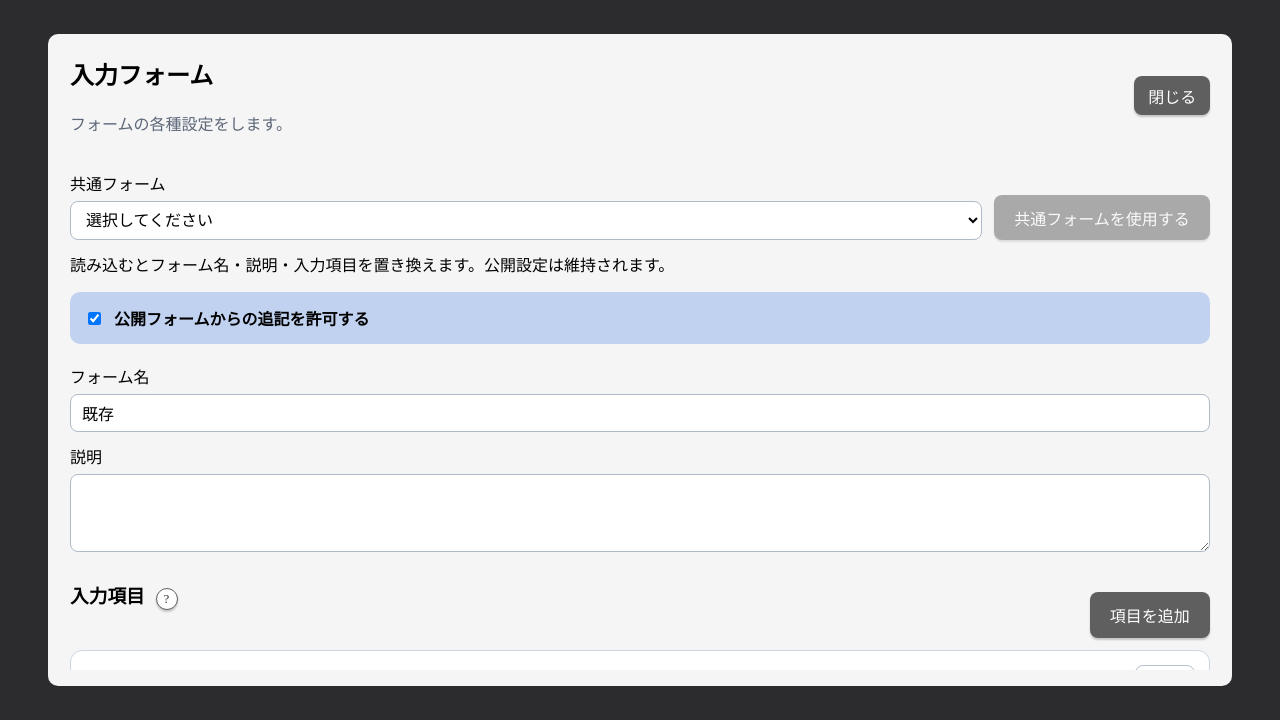
Scenario: 設定の検証・競合・公開URL操作 › 定義の取得失敗を通知して閉じ、適用失敗では元の定義を維持する
The width and height of the screenshot is (1280, 720).
Select "共通（第3版）" in the dropdown labelled "共通フォーム": x=526, y=221 x1=70 y1=201 x2=982 y2=240
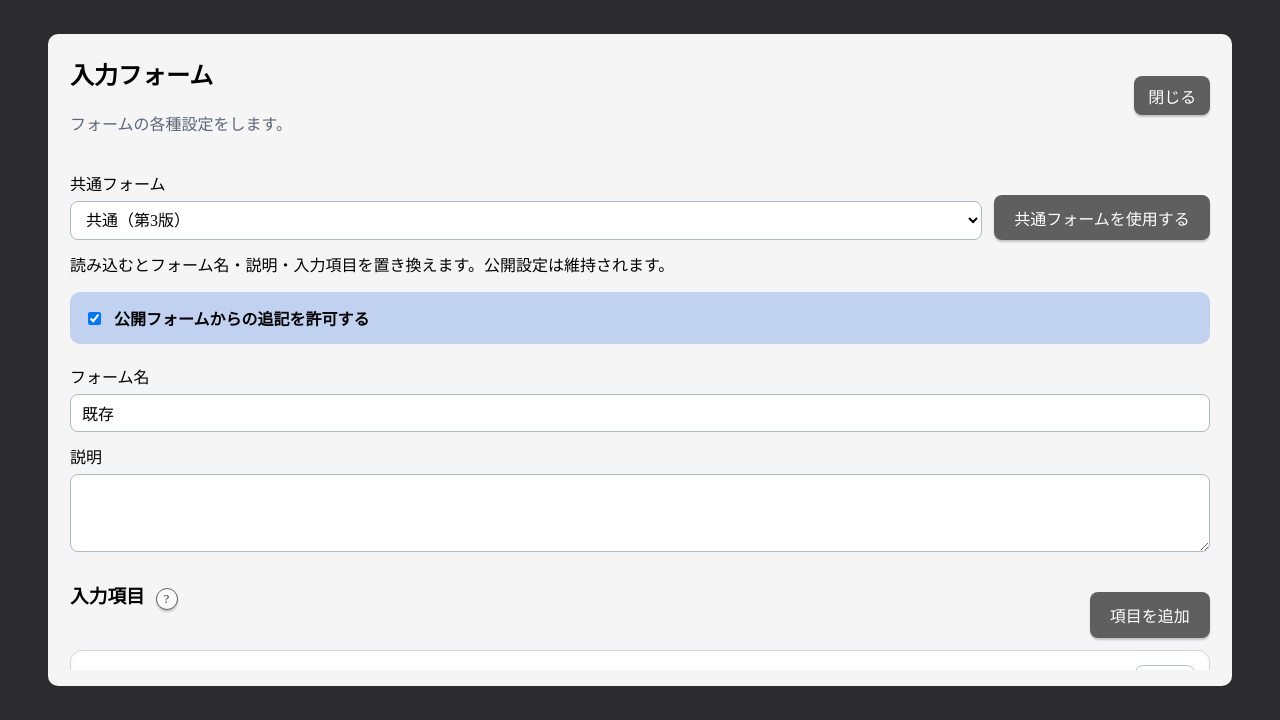
Click the button "共通フォームを使用する": x=1102, y=218 x1=994 y1=195 x2=1210 y2=240
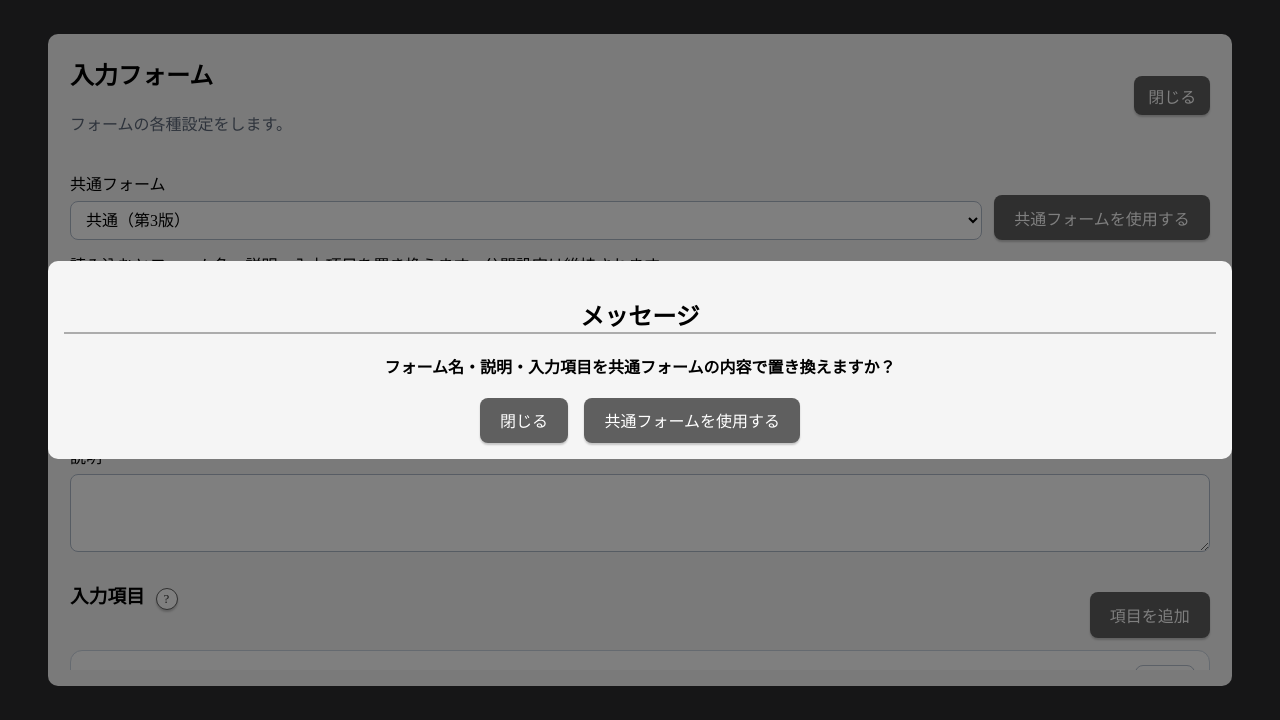
Check: the button "共通フォームを使用する" is shown
Click the button "共通フォームを使用する": x=692, y=420 x1=584 y1=398 x2=800 y2=443
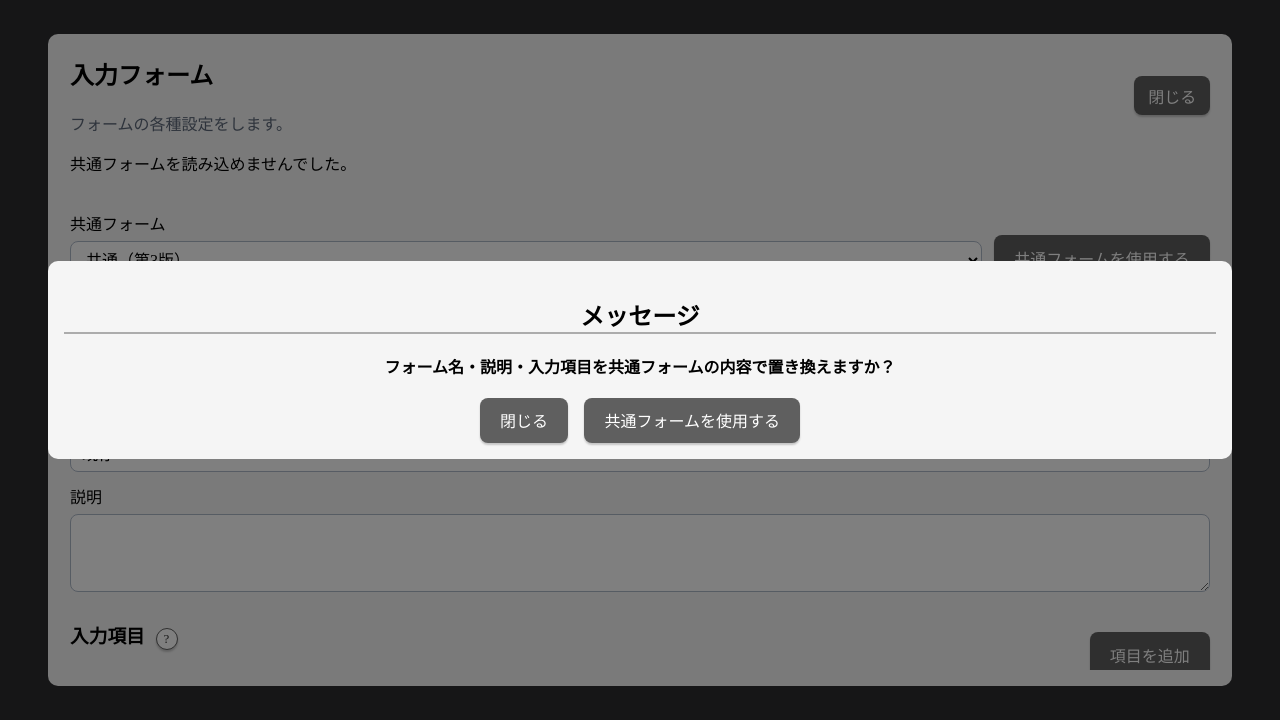
Check: the field labelled "フォーム名" holds "既存", box x1=70 y1=434 x2=1210 y2=472
Check: the text "共通フォームを読み込めません" is shown, box x1=70 y1=156 x2=356 y2=173
